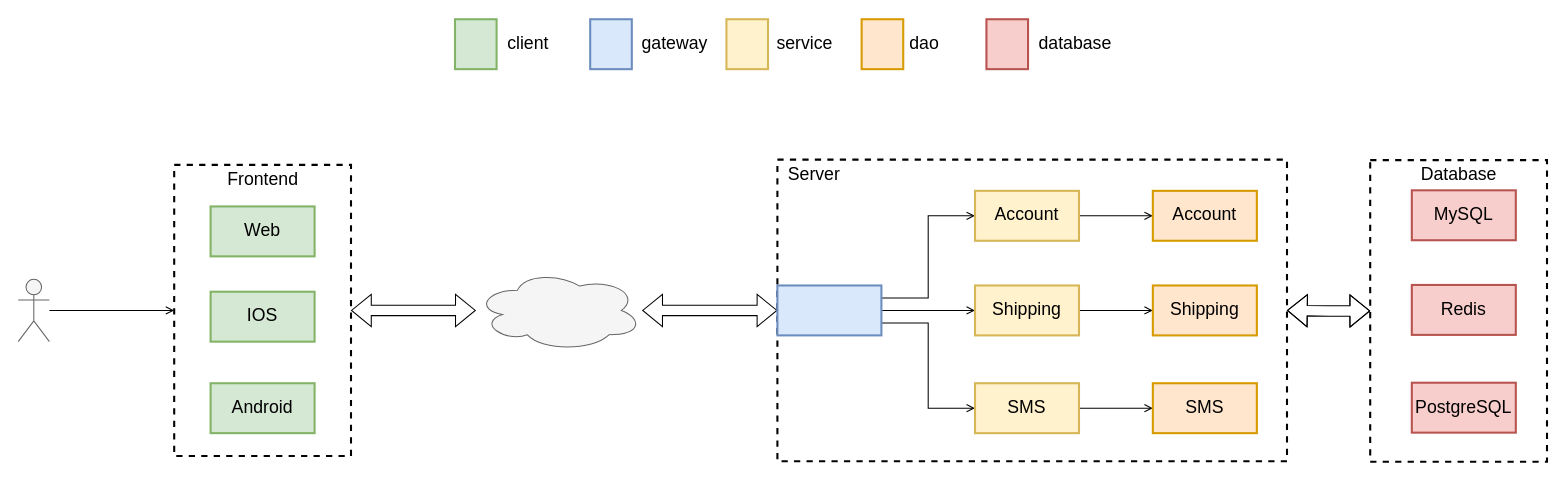
Image size: 1566x480. Some labels were removed from this diagram. The shapes that lost their labels are listed below. From the top down, each one's centre as x and y in pixels, then its label:
(x=33, y=310): user
(x=558, y=310): network
(x=829, y=310): ApiGateway
